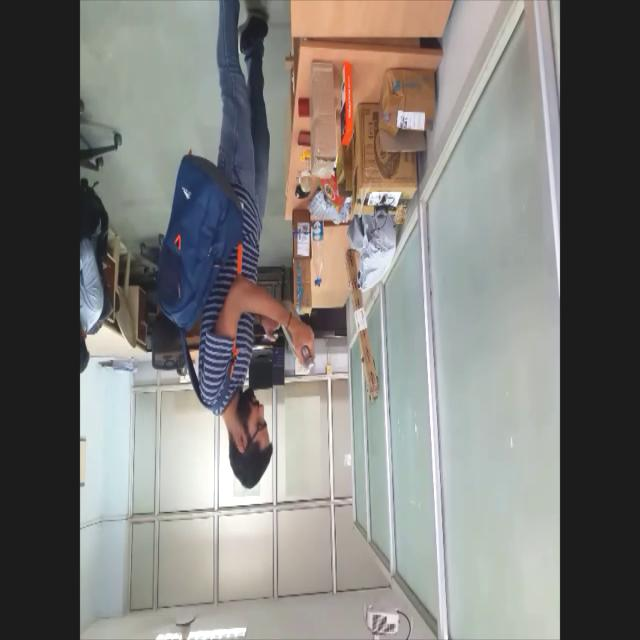normal: (154, 0, 315, 493)
